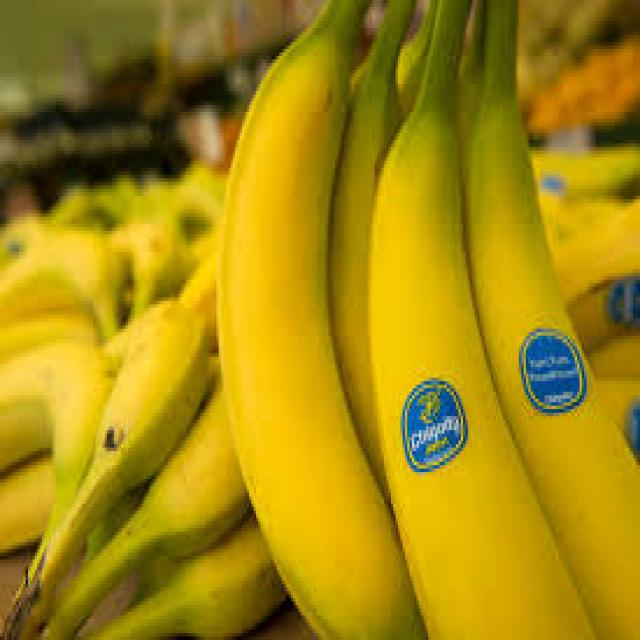banana: (221, 0, 640, 640), (0, 297, 284, 640)
